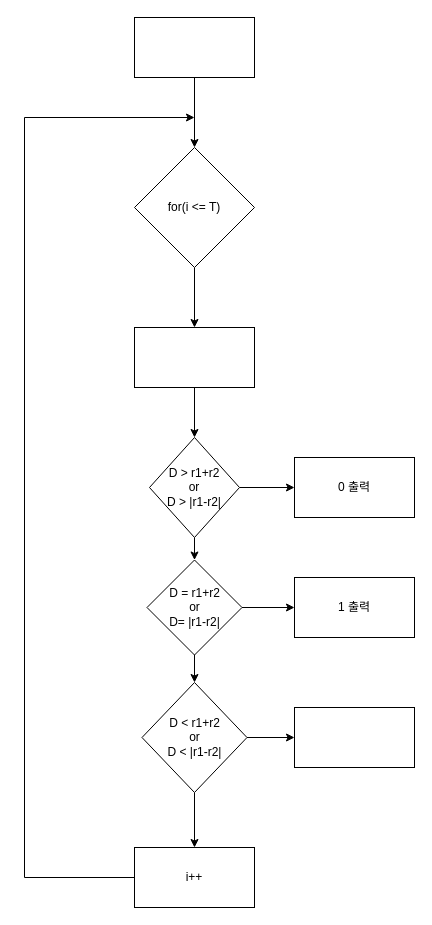
This 432x925 diagram has some shape labels left out. Each missing label, with the centre of its shape:
"2 출력" belongs at (x=354, y=737).
"test case(T) 입력" belongs at (x=194, y=47).
"x1, y1, r1 x2, y2, r2 입력" belongs at (x=194, y=357).
